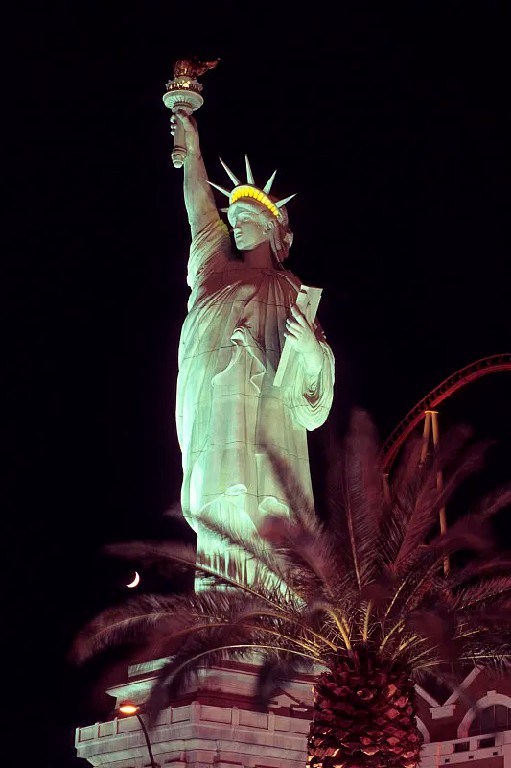SL: (74, 57, 335, 768)
